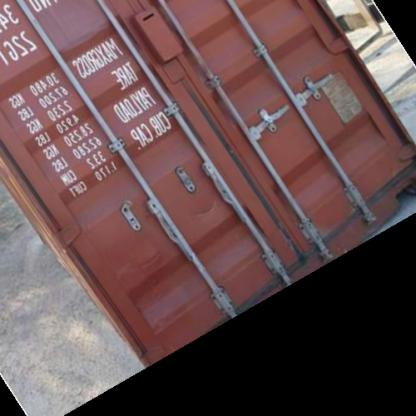Damage: (120, 234, 169, 272), (191, 191, 222, 222)
